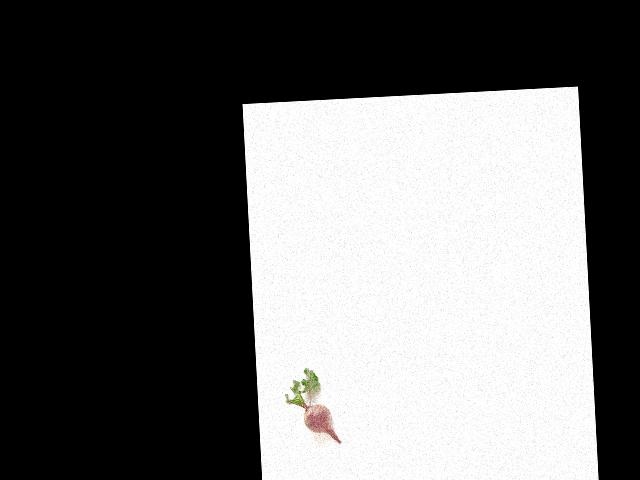beet: (283, 366, 341, 446)
